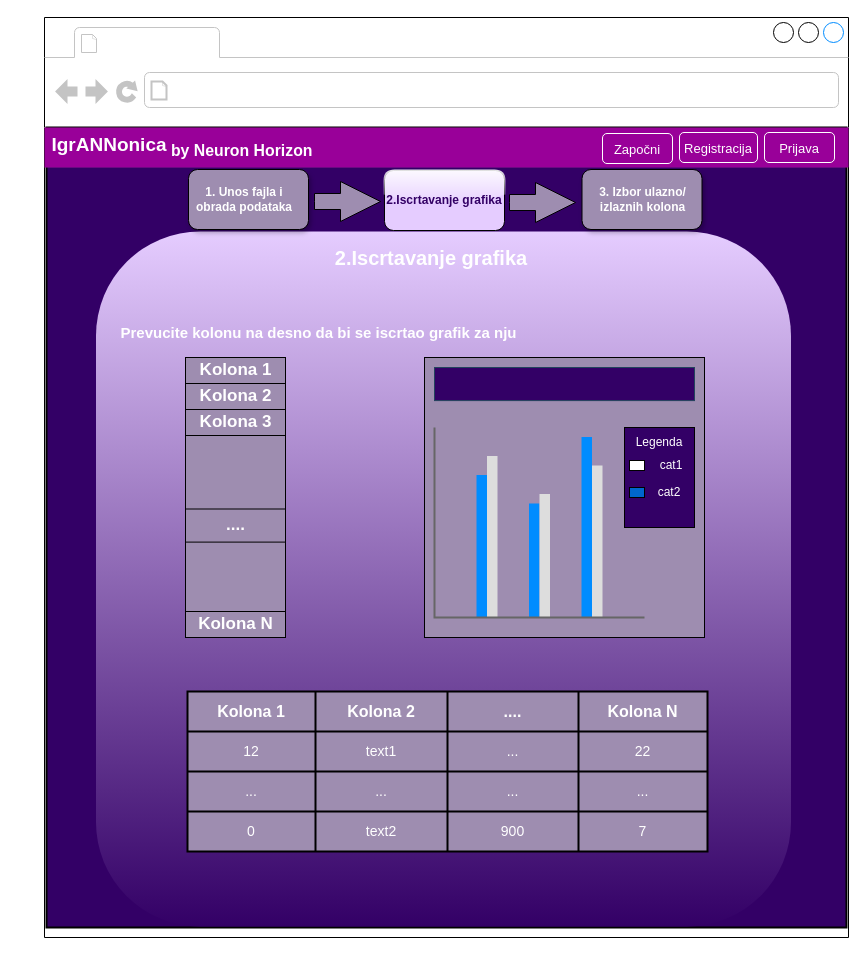
Some shapes in this 866 by 955 pixel diagram are drawn without their labels. Here are the shapes that lost their labels. From the top down, the centre of each, then its label:
At (159,42): "Fajl".
At (299,90): "http://www.igrannonica.pmf.kg.ac.rs".
At (564,383): "Kolona 9".
